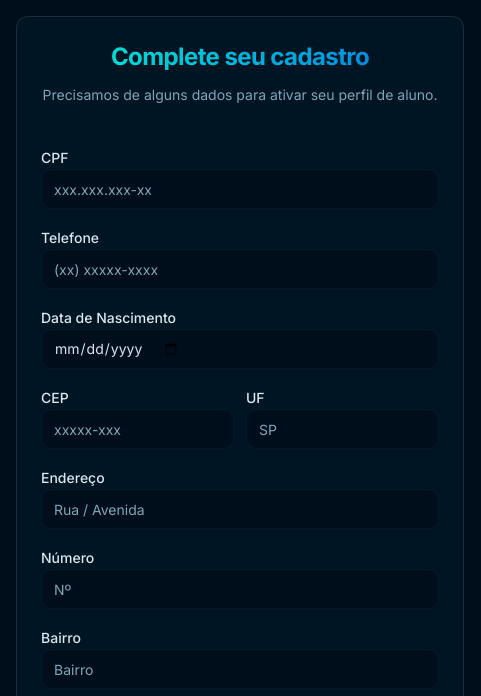
OnboardingClient — ViaCEP lookup › fills endereco/bairro/cidade/estado from ViaCEP on valid CEP blur
Type "59000000" into the field with placeholder "xxxxx-xxx" at (138, 429), box [41, 409, 234, 449]
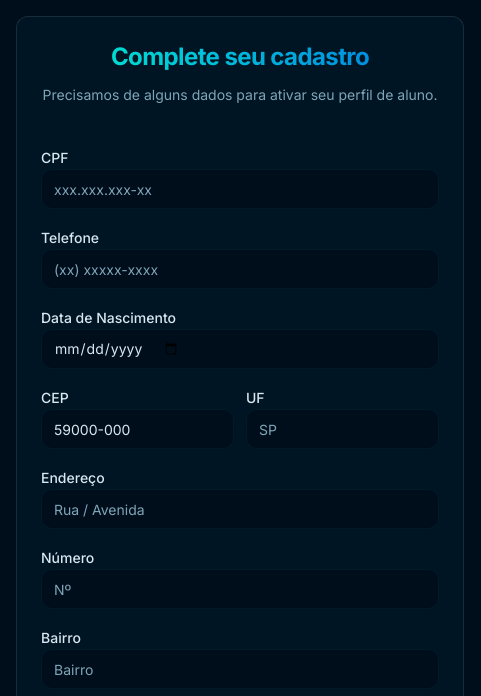
Leave the field with placeholder "xxxxx-xxx", box [41, 409, 234, 449]
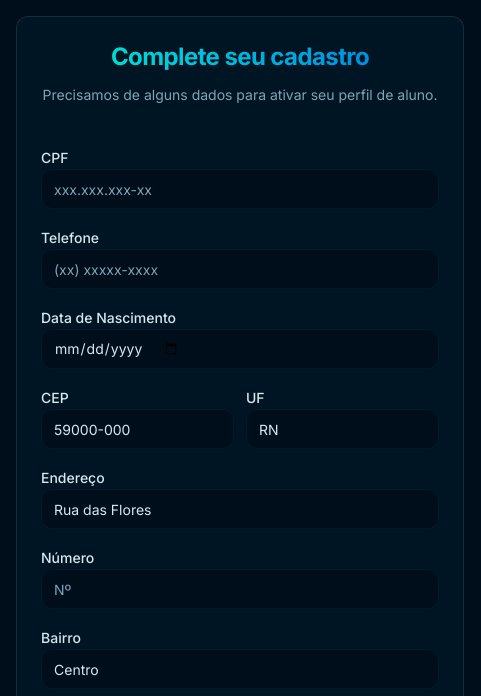
Result: the field with placeholder "Rua / Avenida" holds "Rua das Flores" at [41, 489, 439, 529]
Result: the field with placeholder "Bairro" holds "Centro" at [41, 649, 439, 689]
Result: the field with placeholder "SP" holds "RN" at [246, 409, 439, 449]
